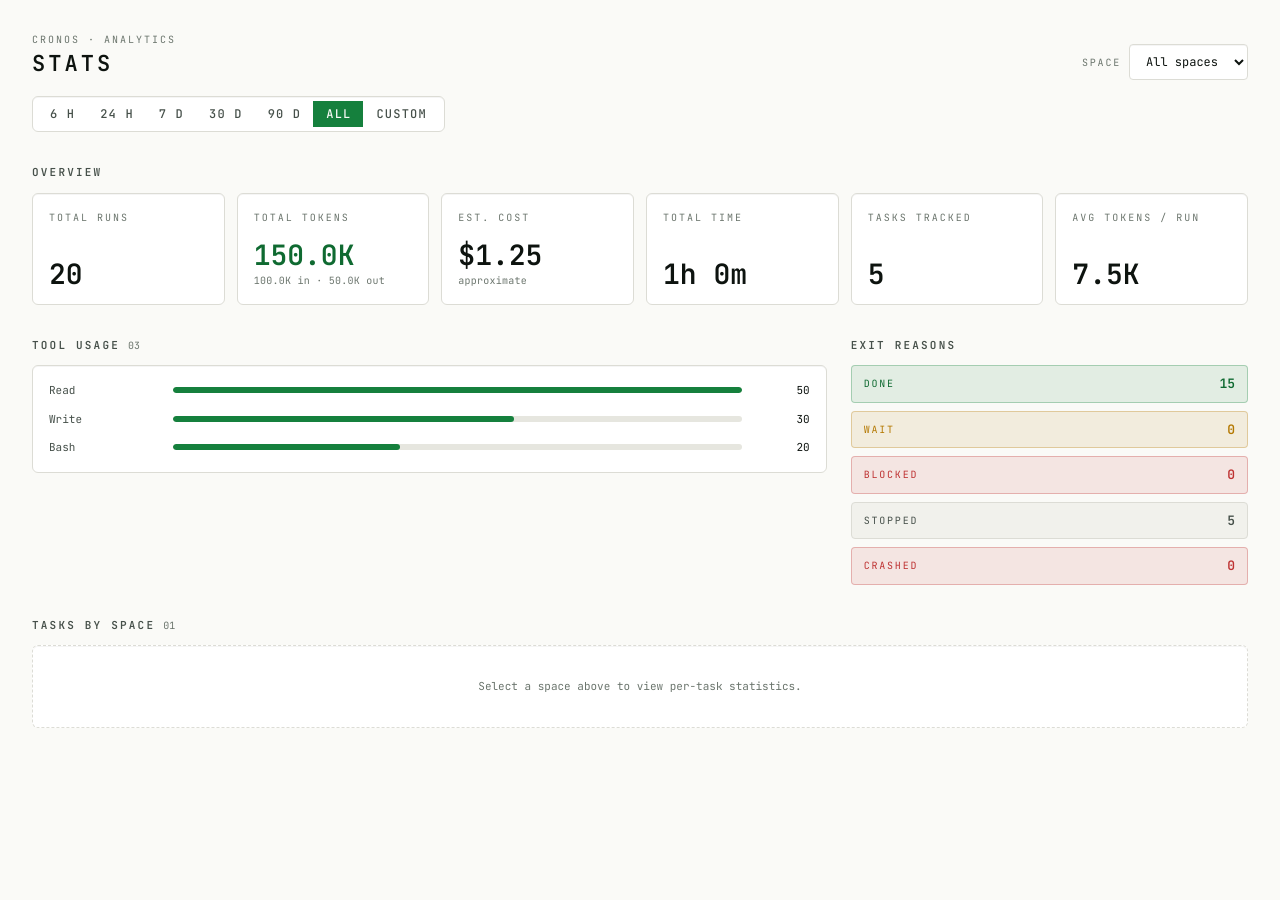
Test: StatsPage › renders per-space task table when a space is selected and stats are available
Select "My Space" in the dropdown at (1188, 62), box x1=1129 y1=44 x2=1248 y2=80
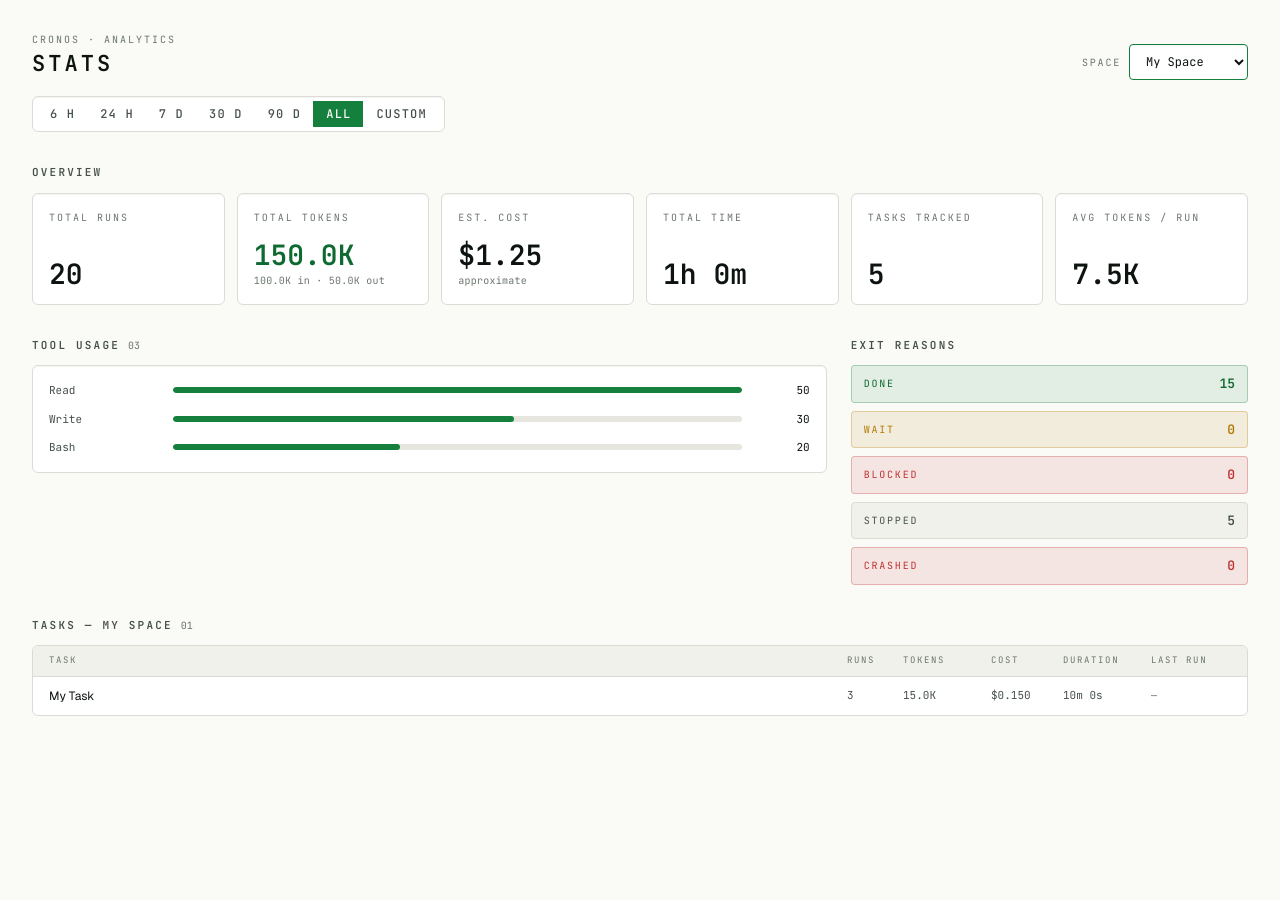
Expected: the text "Task" is shown, x1=49 y1=654 x2=77 y2=666
Expected: the text "Runs" is shown, x1=847 y1=654 x2=875 y2=666
